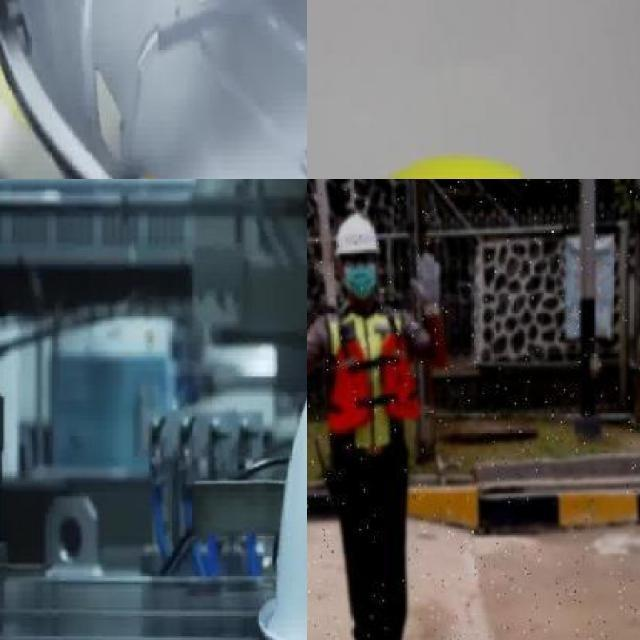apron: (410, 250, 444, 316)
